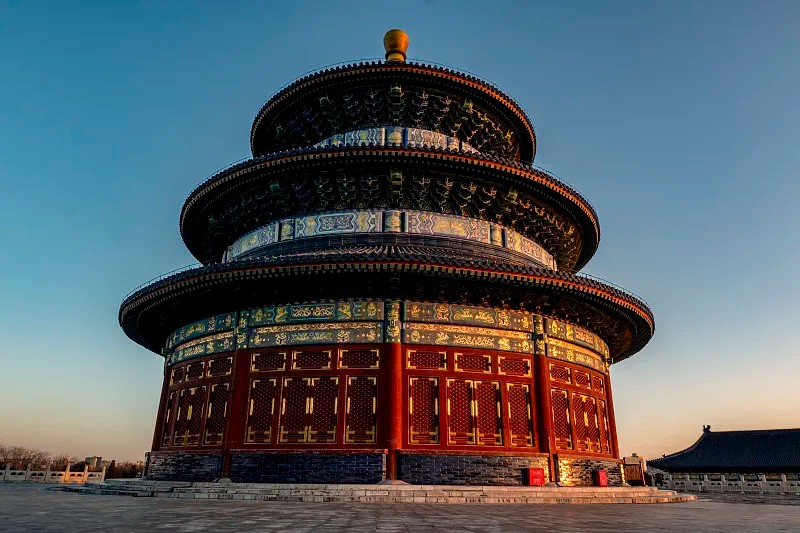Heaven: (115, 27, 655, 488)
